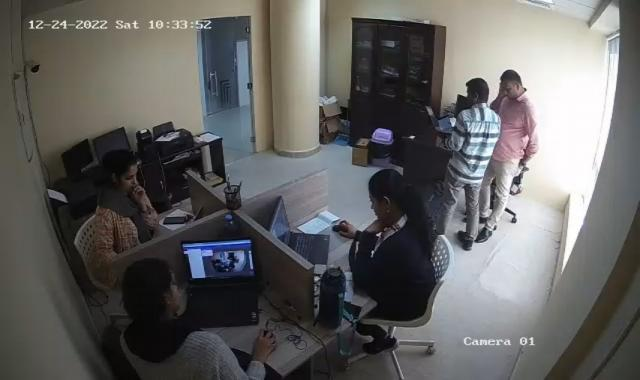no_hairnet: (128, 259, 182, 318), (364, 172, 408, 220), (105, 150, 139, 192), (462, 76, 488, 105), (498, 71, 524, 99)
